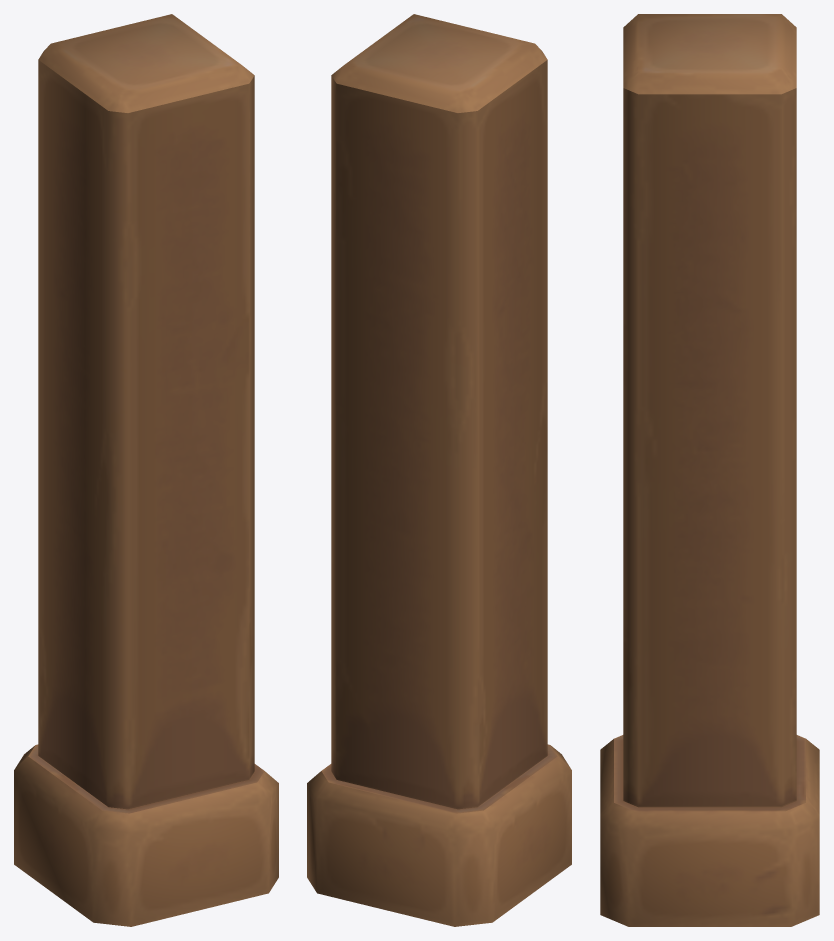
Rendered from ARC0510078.fbx.
3 renders of one model, left to right at view 1: azimuth 30°, elevation 25°; view 2: azimuth 150°, elevation 25°; view 3: azimuth 270°, elevation 25°, orthographic. The views are drawn at different scales.
Visible parts, largest first — view 1: smARC0510078; view 2: smARC0510078; view 3: smARC0510078.
Boxes of the visible parts, box(x1,y1,x2,y2) form: smARC0510078: box(14, 14, 278, 926); smARC0510078: box(307, 14, 571, 926); smARC0510078: box(600, 14, 819, 926).
Bounding box in the file's own units: 19.02 × 79.99 × 19.02.
1 material, 1 textured.
